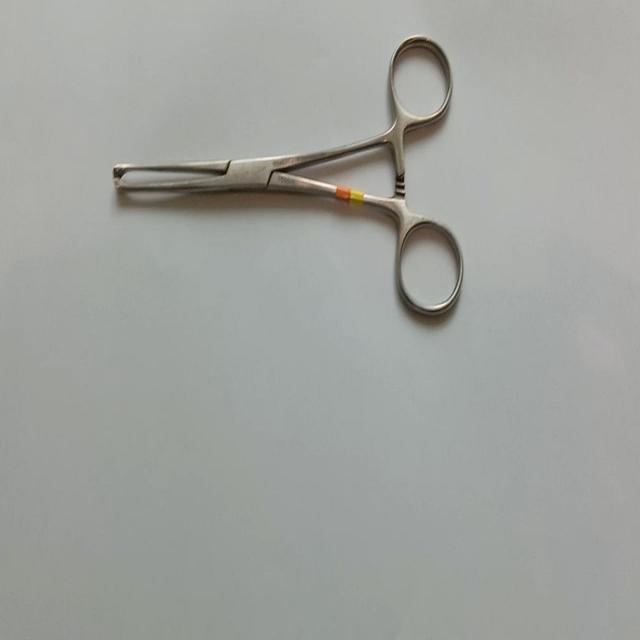AllisForcep: (110, 32, 468, 322)
